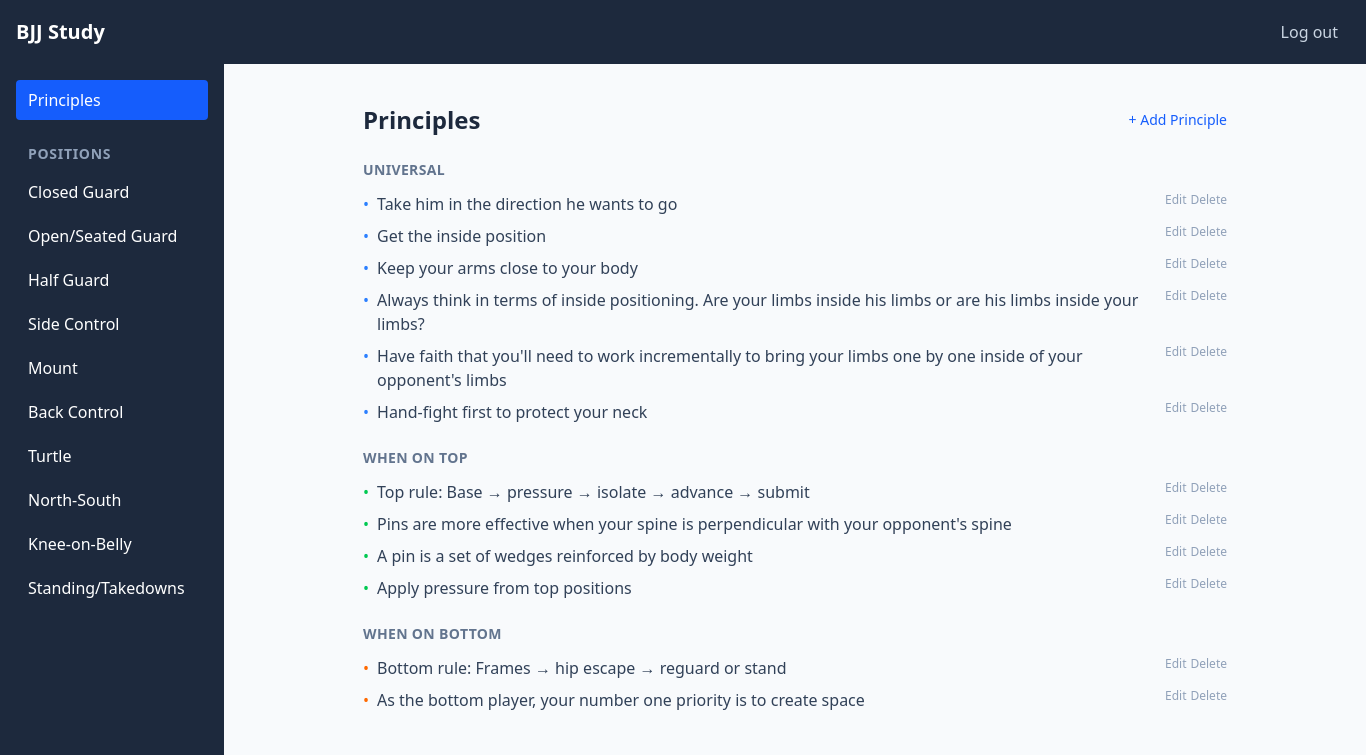
Test: App › switches back to PrinciplesView when Principles clicked
# Go to position view
Click the button "Side Control" at (112,324), box [16,304,208,344]
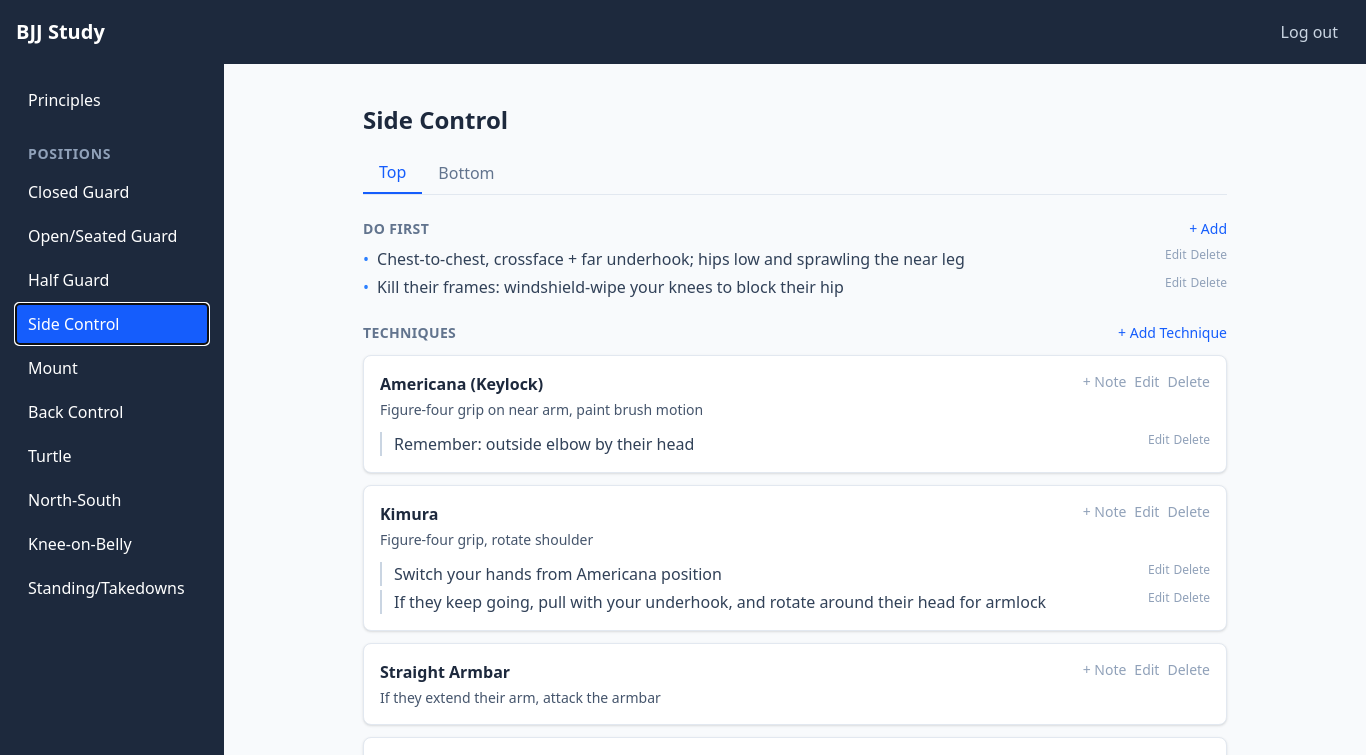
# Go back to principles
Click the button "Principles" at (112,100), box [16,80,208,120]
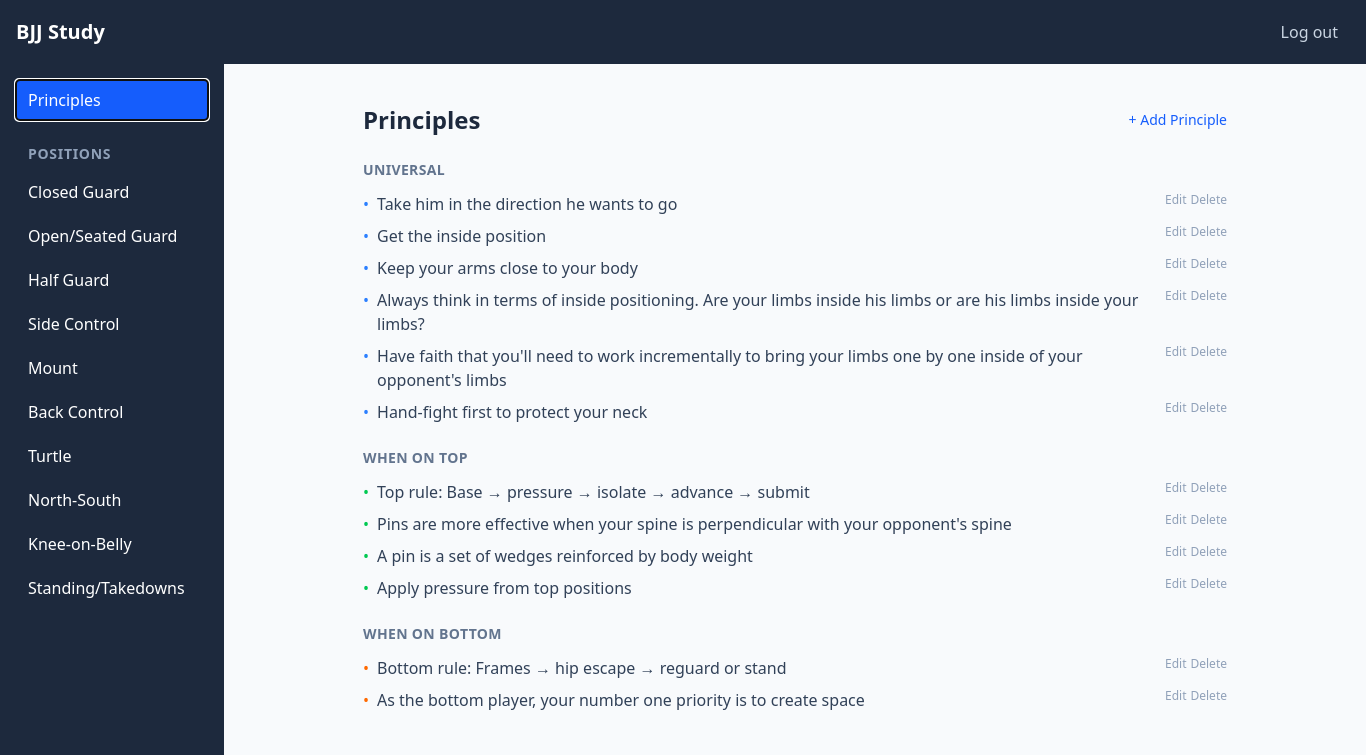
expect the heading "Principles" is shown: met, box [363,104,480,136]
